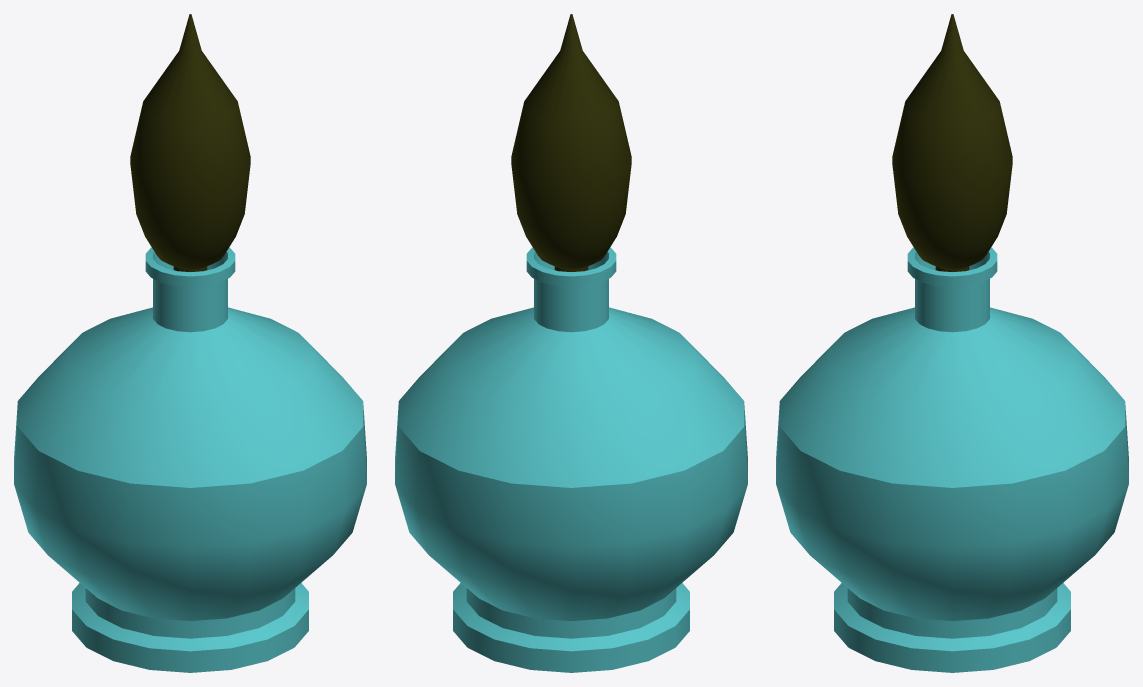
Rendered from lamp.fbx.
3 renders of one model, left to right at view 1: azimuth 30°, elevation 25°; view 2: azimuth 150°, elevation 25°; view 3: azimuth 270°, elevation 25°, orthographic.
Parts seen in each view (by area): view 1: Cylinder001, Object001; view 2: Cylinder001, Object001; view 3: Cylinder001, Object001.
Part boxes in pixels (<box>): Cylinder001: <box>14,247,366,672</box>; Object001: <box>130,14,250,271</box>; Cylinder001: <box>395,247,747,672</box>; Object001: <box>511,14,631,271</box>; Cylinder001: <box>776,247,1128,672</box>; Object001: <box>892,14,1012,271</box>.
Bounding box in the file's own units: 3.97 × 7.43 × 3.91.
